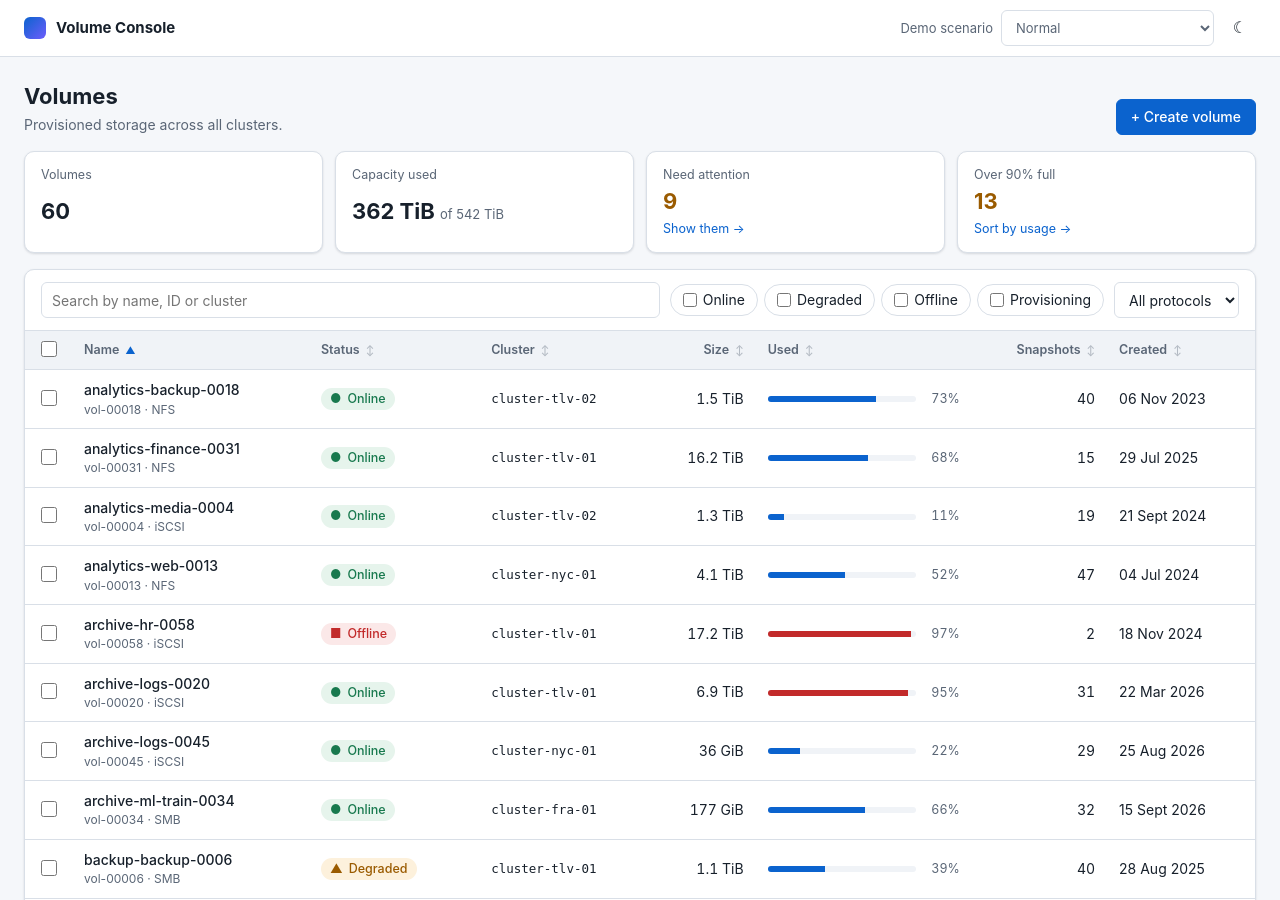
Test: Volume Console › reports partial failures in bulk actions and keeps the failed rows selected
This screenshot has width=1280, height=900.
Select "Flaky (every 2nd write fails)" in the dropdown labelled "Demo scenario" at [1108, 28], box [1001,10,1214,46]
Click the checkbox labelled "Online" at [690, 300], box [683,293,697,307]
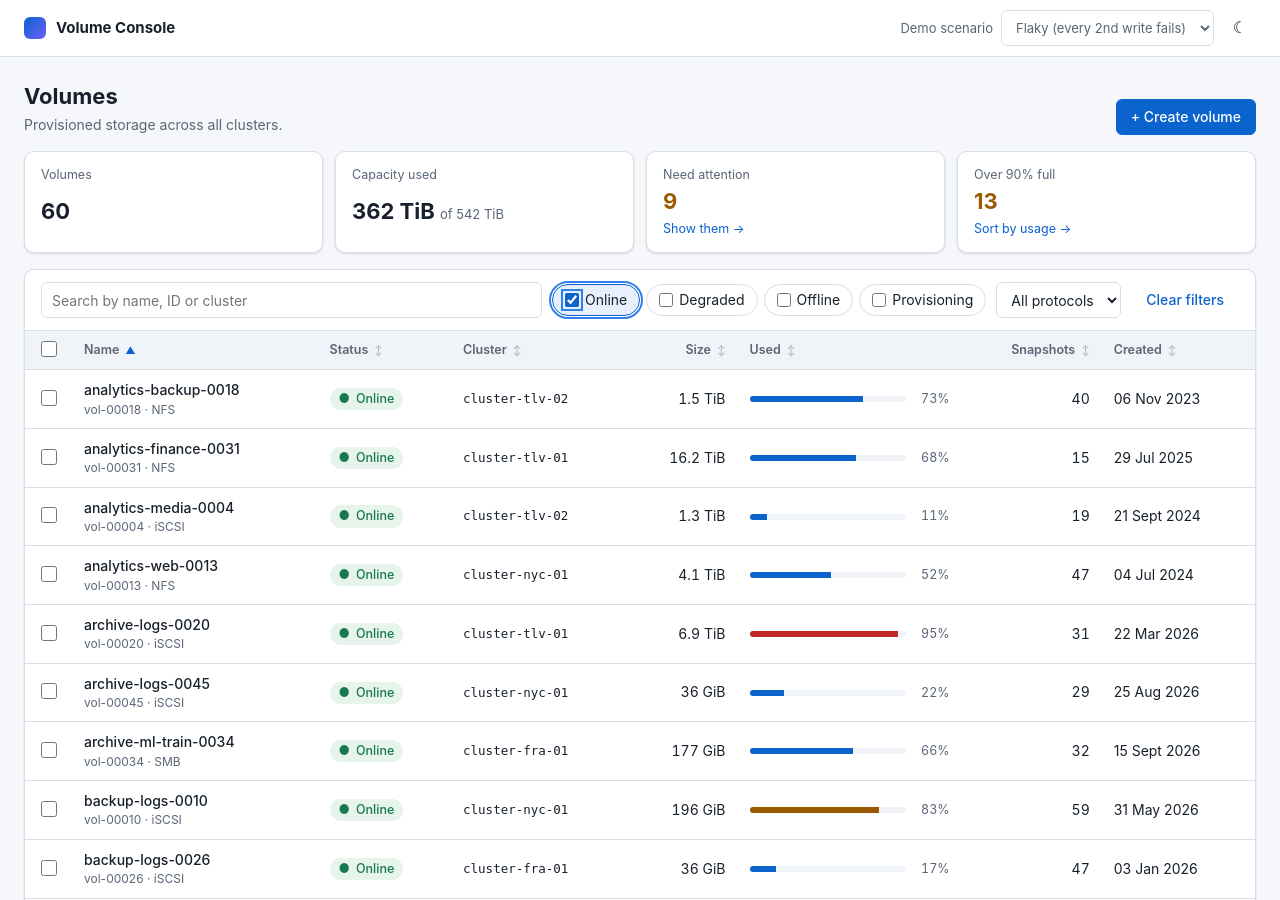
Click the checkbox named "Select analytics-backup-0018" at [49, 398], box [41,390,57,406]
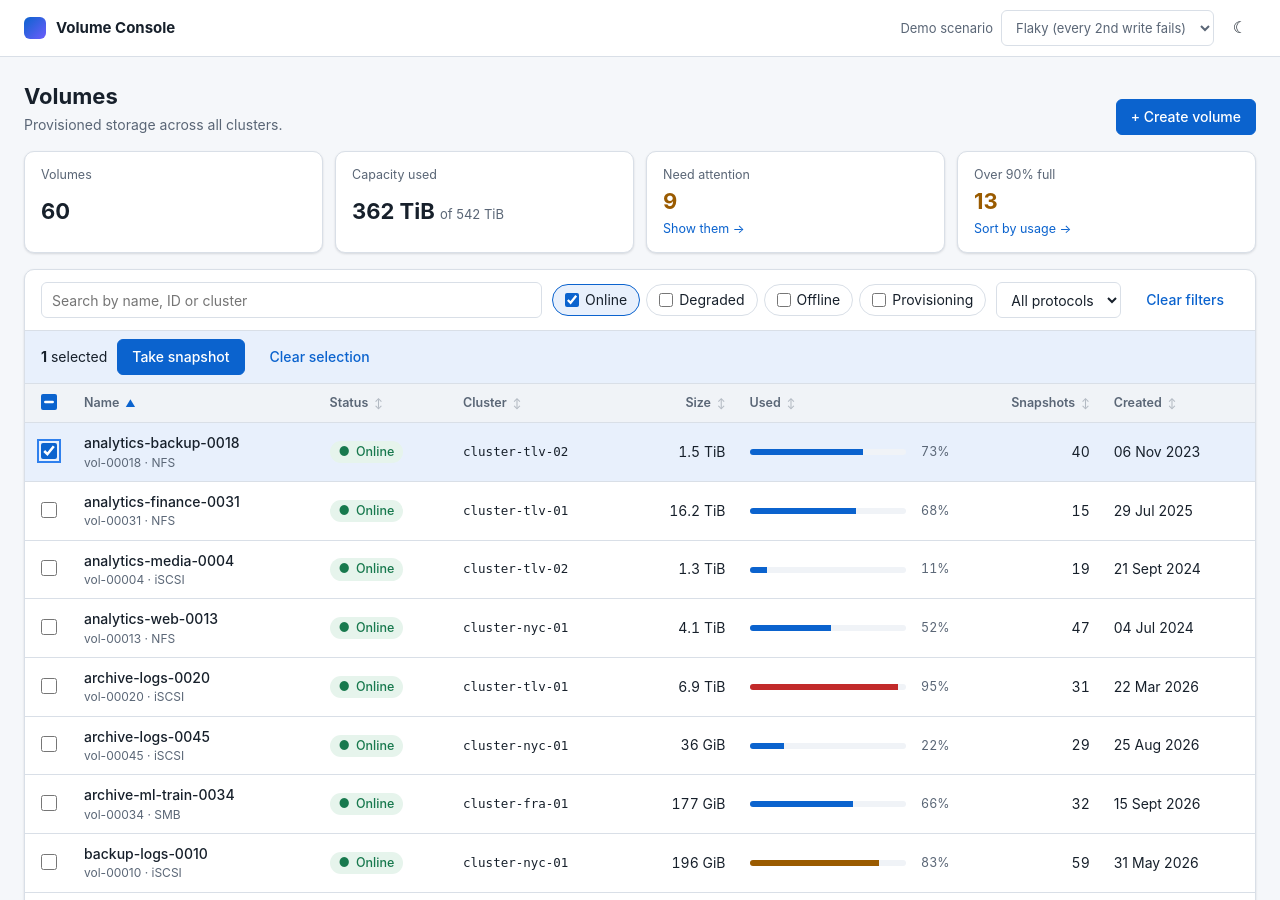
Click the checkbox named "Select analytics-finance-0031" at [49, 510], box [41,502,57,518]
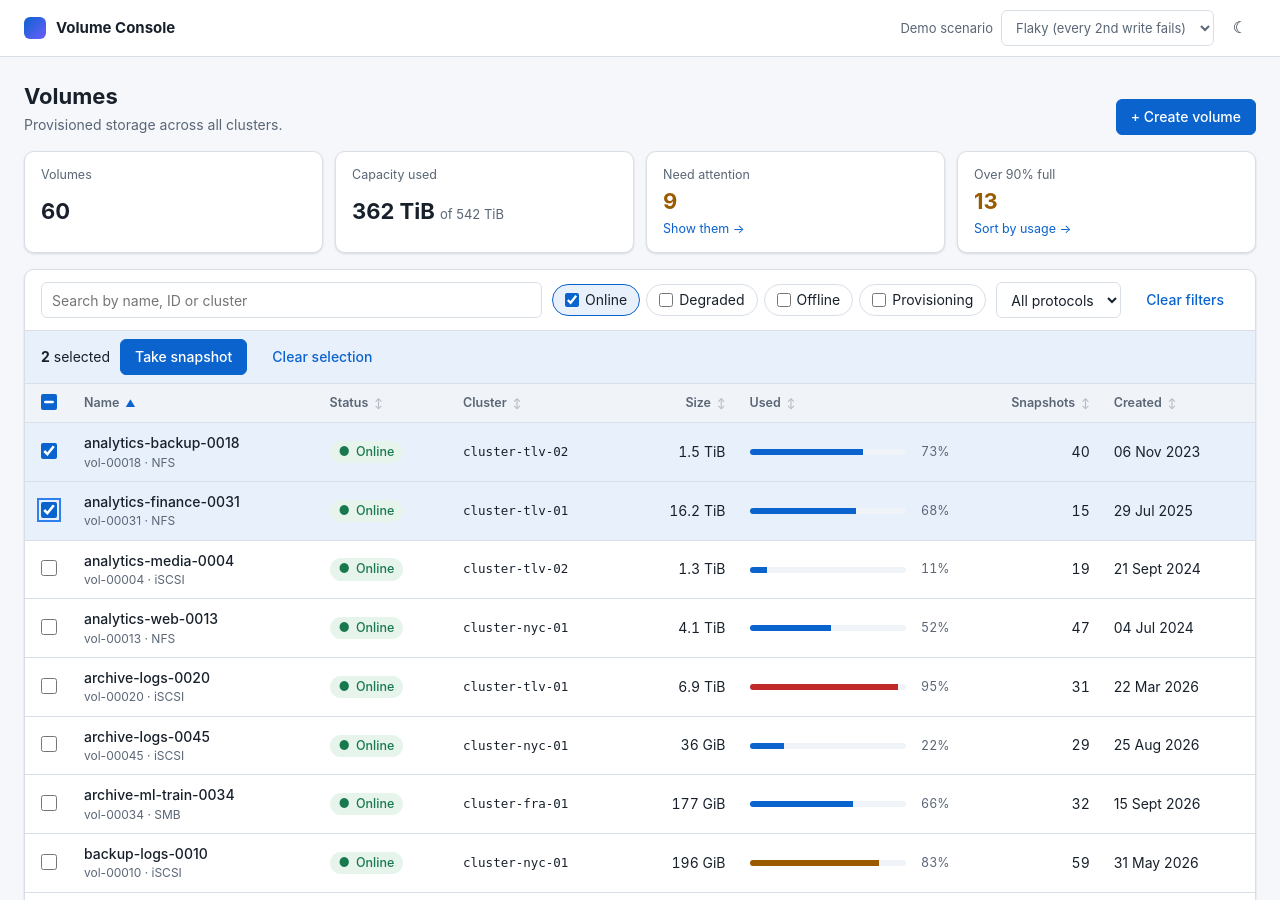
Click the checkbox named "Select analytics-media-0004" at [49, 568], box [41,560,57,576]
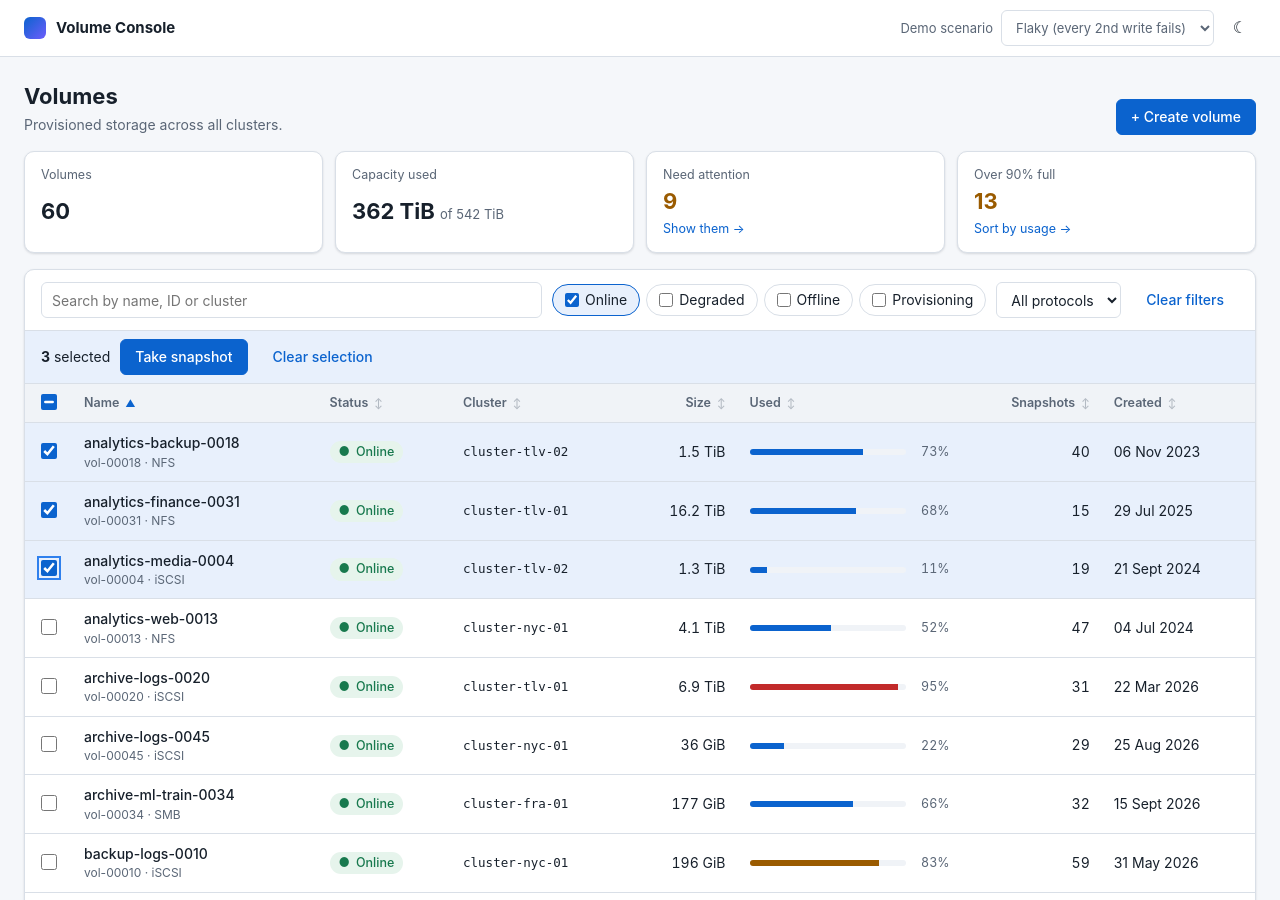
Click the checkbox named "Select analytics-web-0013" at [49, 627], box [41,619,57,635]
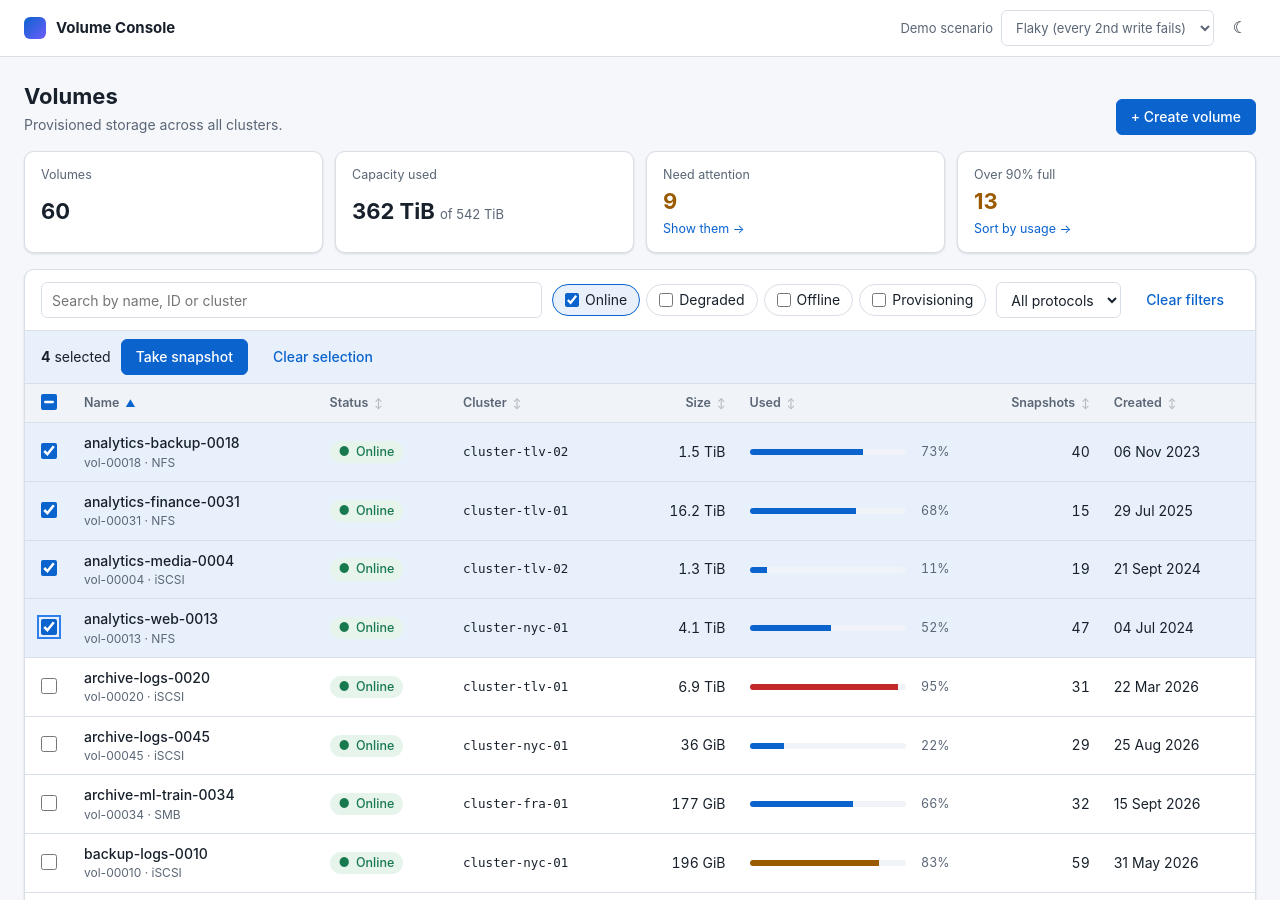
Click the button "Take snapshot" at [184, 357], box [121,339,248,375]
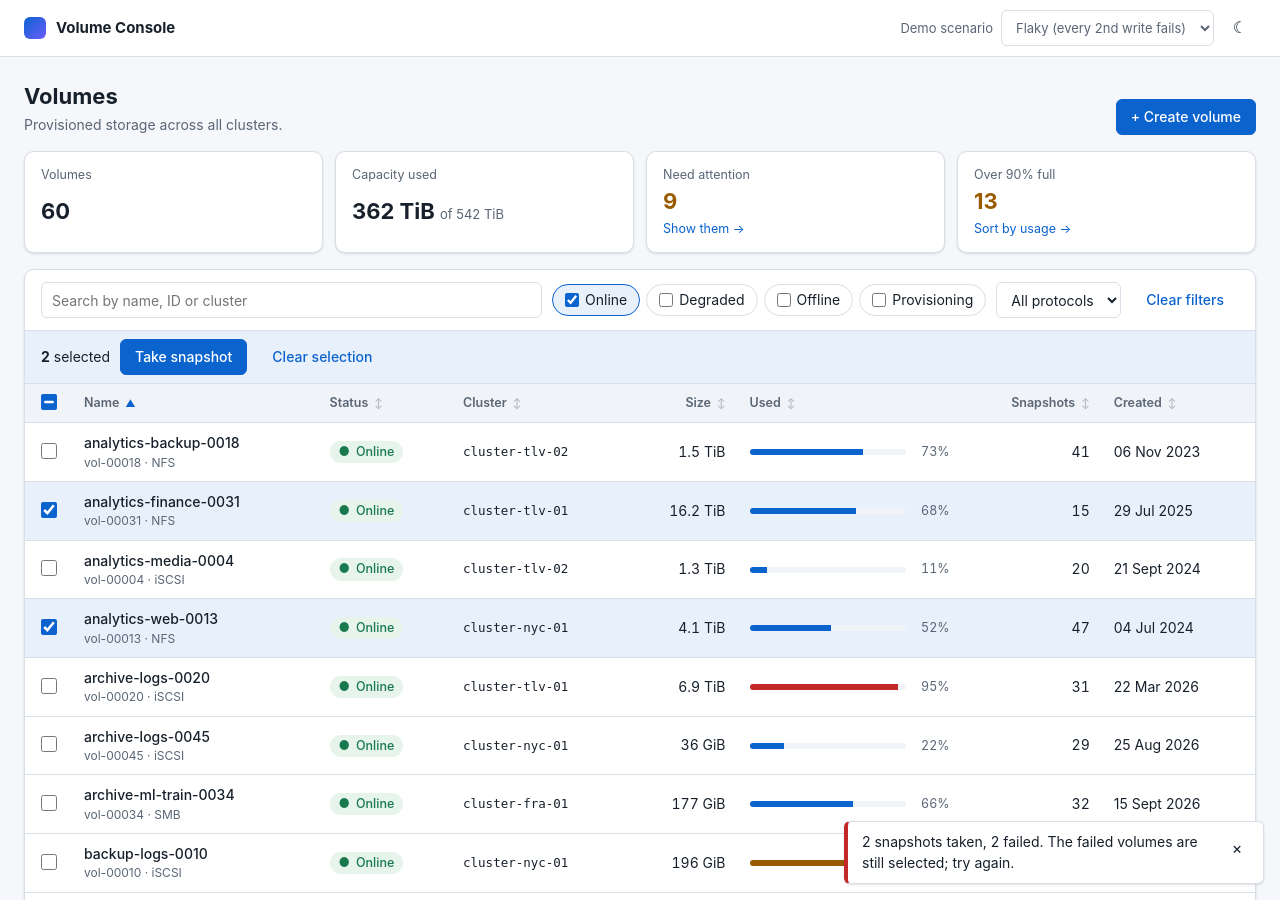
expect the text "2 snapshots taken, 2 failed" is shown: met, box [862,833,1198,871]
expect the element named "Bulk actions" shows "2 selected": met, box [25,331,1255,384]
